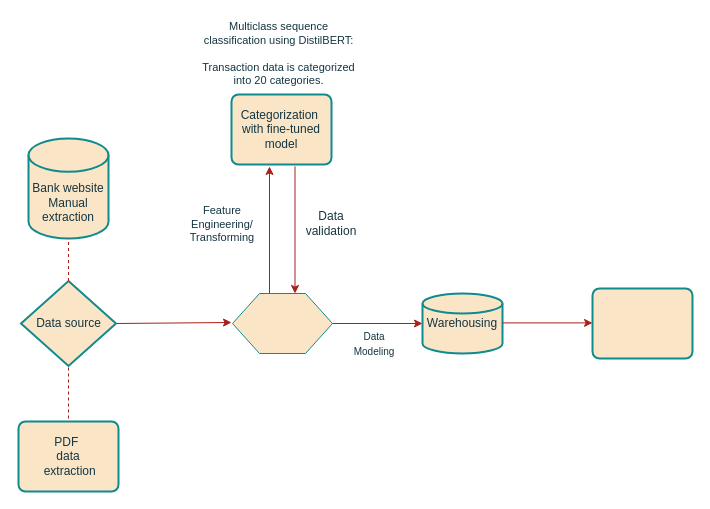
Some shapes in this 710 by 509 pixel diagram are drawn without their labels. The box of each missing label's shape, as (x1, y1, x2, y2) in pixels:
Dashboarding with POWER BI: (591, 287, 693, 359)
Staging / Preparation: (232, 292, 332, 354)
